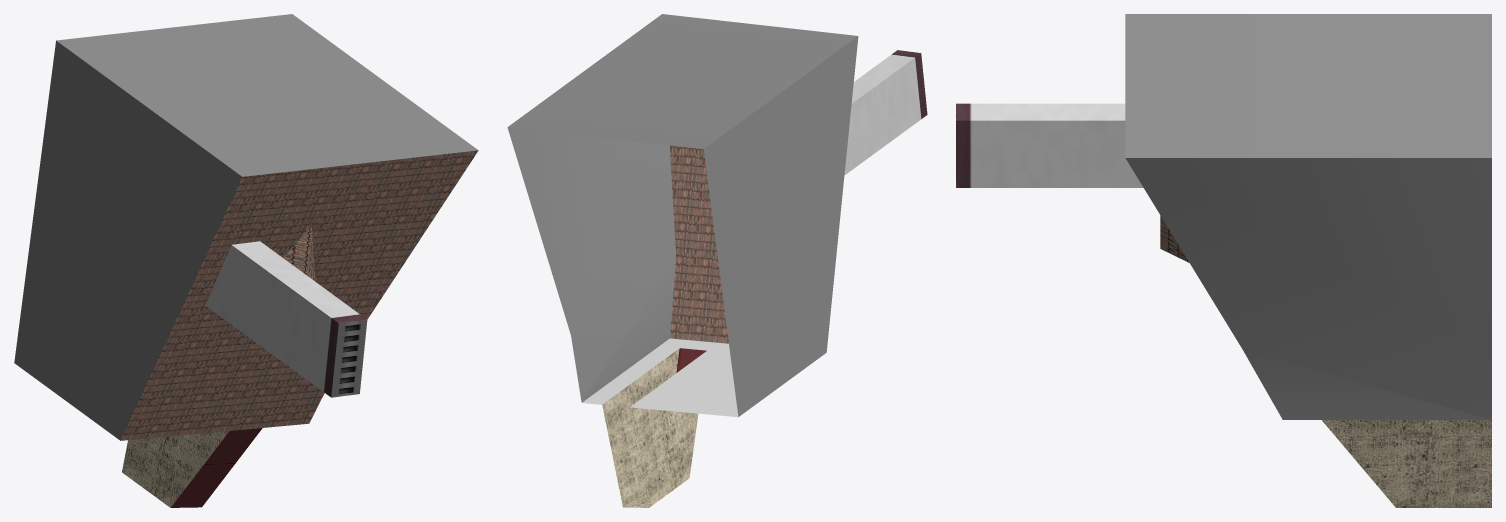
Rendered from Raekoja_Plats_18.obj.
The picture shows the model from 3 angles, left to right: view 1: azimuth 30°, elevation 25°; view 2: azimuth 150°, elevation 25°; view 3: azimuth 270°, elevation 25°; orthographic projection. The views are drawn at different scales.
Parts seen in each view (by area): view 1: Raekoja_Plats_18; view 2: Raekoja_Plats_18; view 3: Raekoja_Plats_18.
Part boxes in pixels (box(x1,y1,x2,y2)): Raekoja_Plats_18: box(14, 14, 478, 507); Raekoja_Plats_18: box(507, 14, 927, 507); Raekoja_Plats_18: box(956, 14, 1491, 507).
Bounding box in the file's own units: 8.77 × 13.71 × 14.88.
